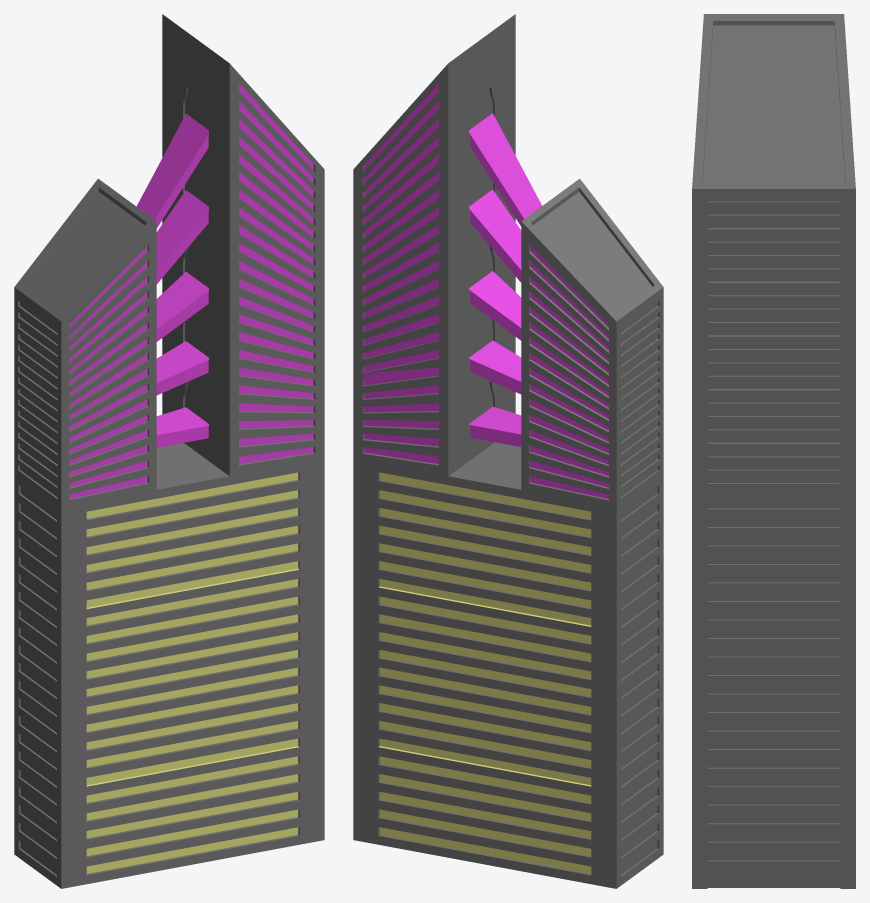
The model's file is building_1.fbx.
The picture shows the model from 3 angles, left to right: view 1: azimuth 30°, elevation 25°; view 2: azimuth 150°, elevation 25°; view 3: azimuth 270°, elevation 25°; orthographic projection. The views are drawn at different scales.
Visible parts, largest first — view 1: scifi_building_1, 1_bridge04, 1_bridge03, 1_bridge02, 1_bridge01, 1_bridge00; view 2: scifi_building_1, 1_bridge04, 1_bridge03, 1_bridge02, 1_bridge01, 1_bridge00; view 3: scifi_building_1.
Boxes of the visible parts, x1,y1,x2,y2 form: scifi_building_1: (14,14,324,888); 1_bridge04: (136,114,208,228); 1_bridge03: (156,190,208,284); 1_bridge02: (156,272,208,341); 1_bridge01: (156,341,208,395); 1_bridge00: (156,407,208,447); scifi_building_1: (353,14,663,888); 1_bridge04: (469,113,541,226); 1_bridge03: (469,189,521,282); 1_bridge02: (469,271,521,340); 1_bridge01: (469,340,521,394); 1_bridge00: (469,406,521,446); scifi_building_1: (692,14,855,888).
Size of the model in its own units: 23.67 by 72.61 by 13.01.
